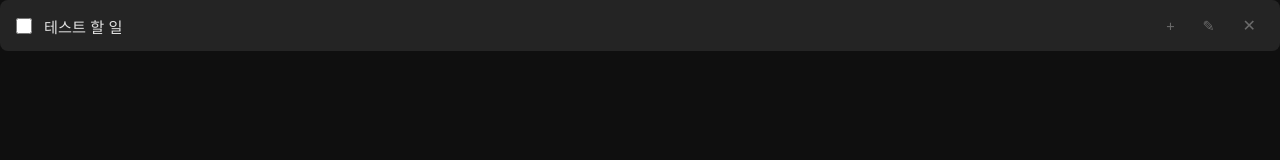
Test case: TodoItem › shows inline input when edit button clicked
Click the button named "수정: 테스트 할 일" at (1209, 26), box [1194,14,1223,38]
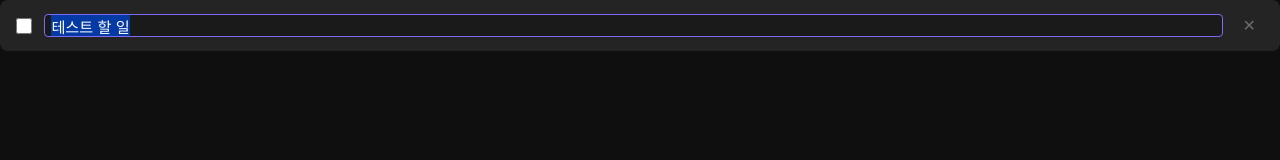
Expected: the field named "수정: 테스트 할 일" holds "테스트 할 일", [44,14,1223,37]
